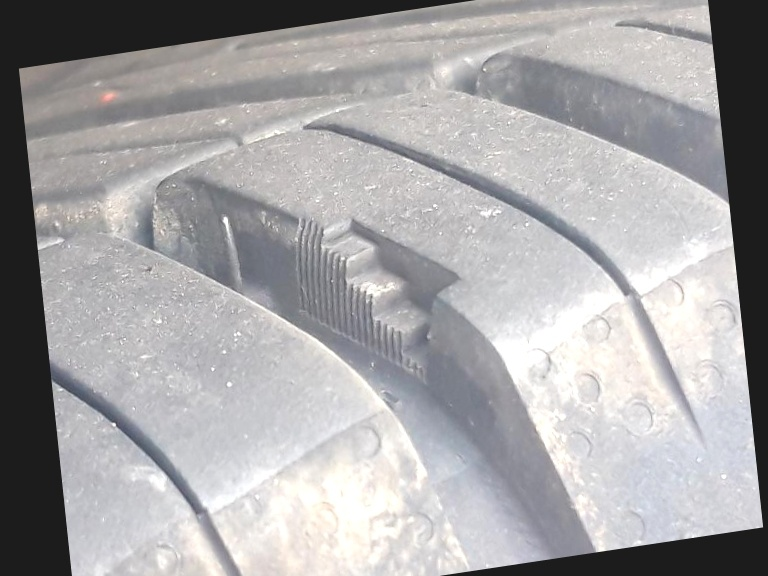temoin:90: (280, 185, 479, 415)
